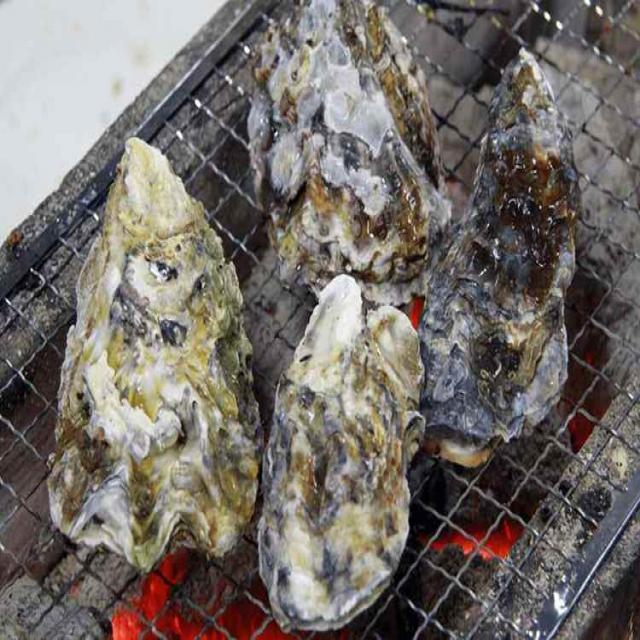Oyster- Indeterminate: (48, 135, 261, 571), (252, 0, 455, 305), (421, 50, 576, 441), (256, 275, 425, 626)
